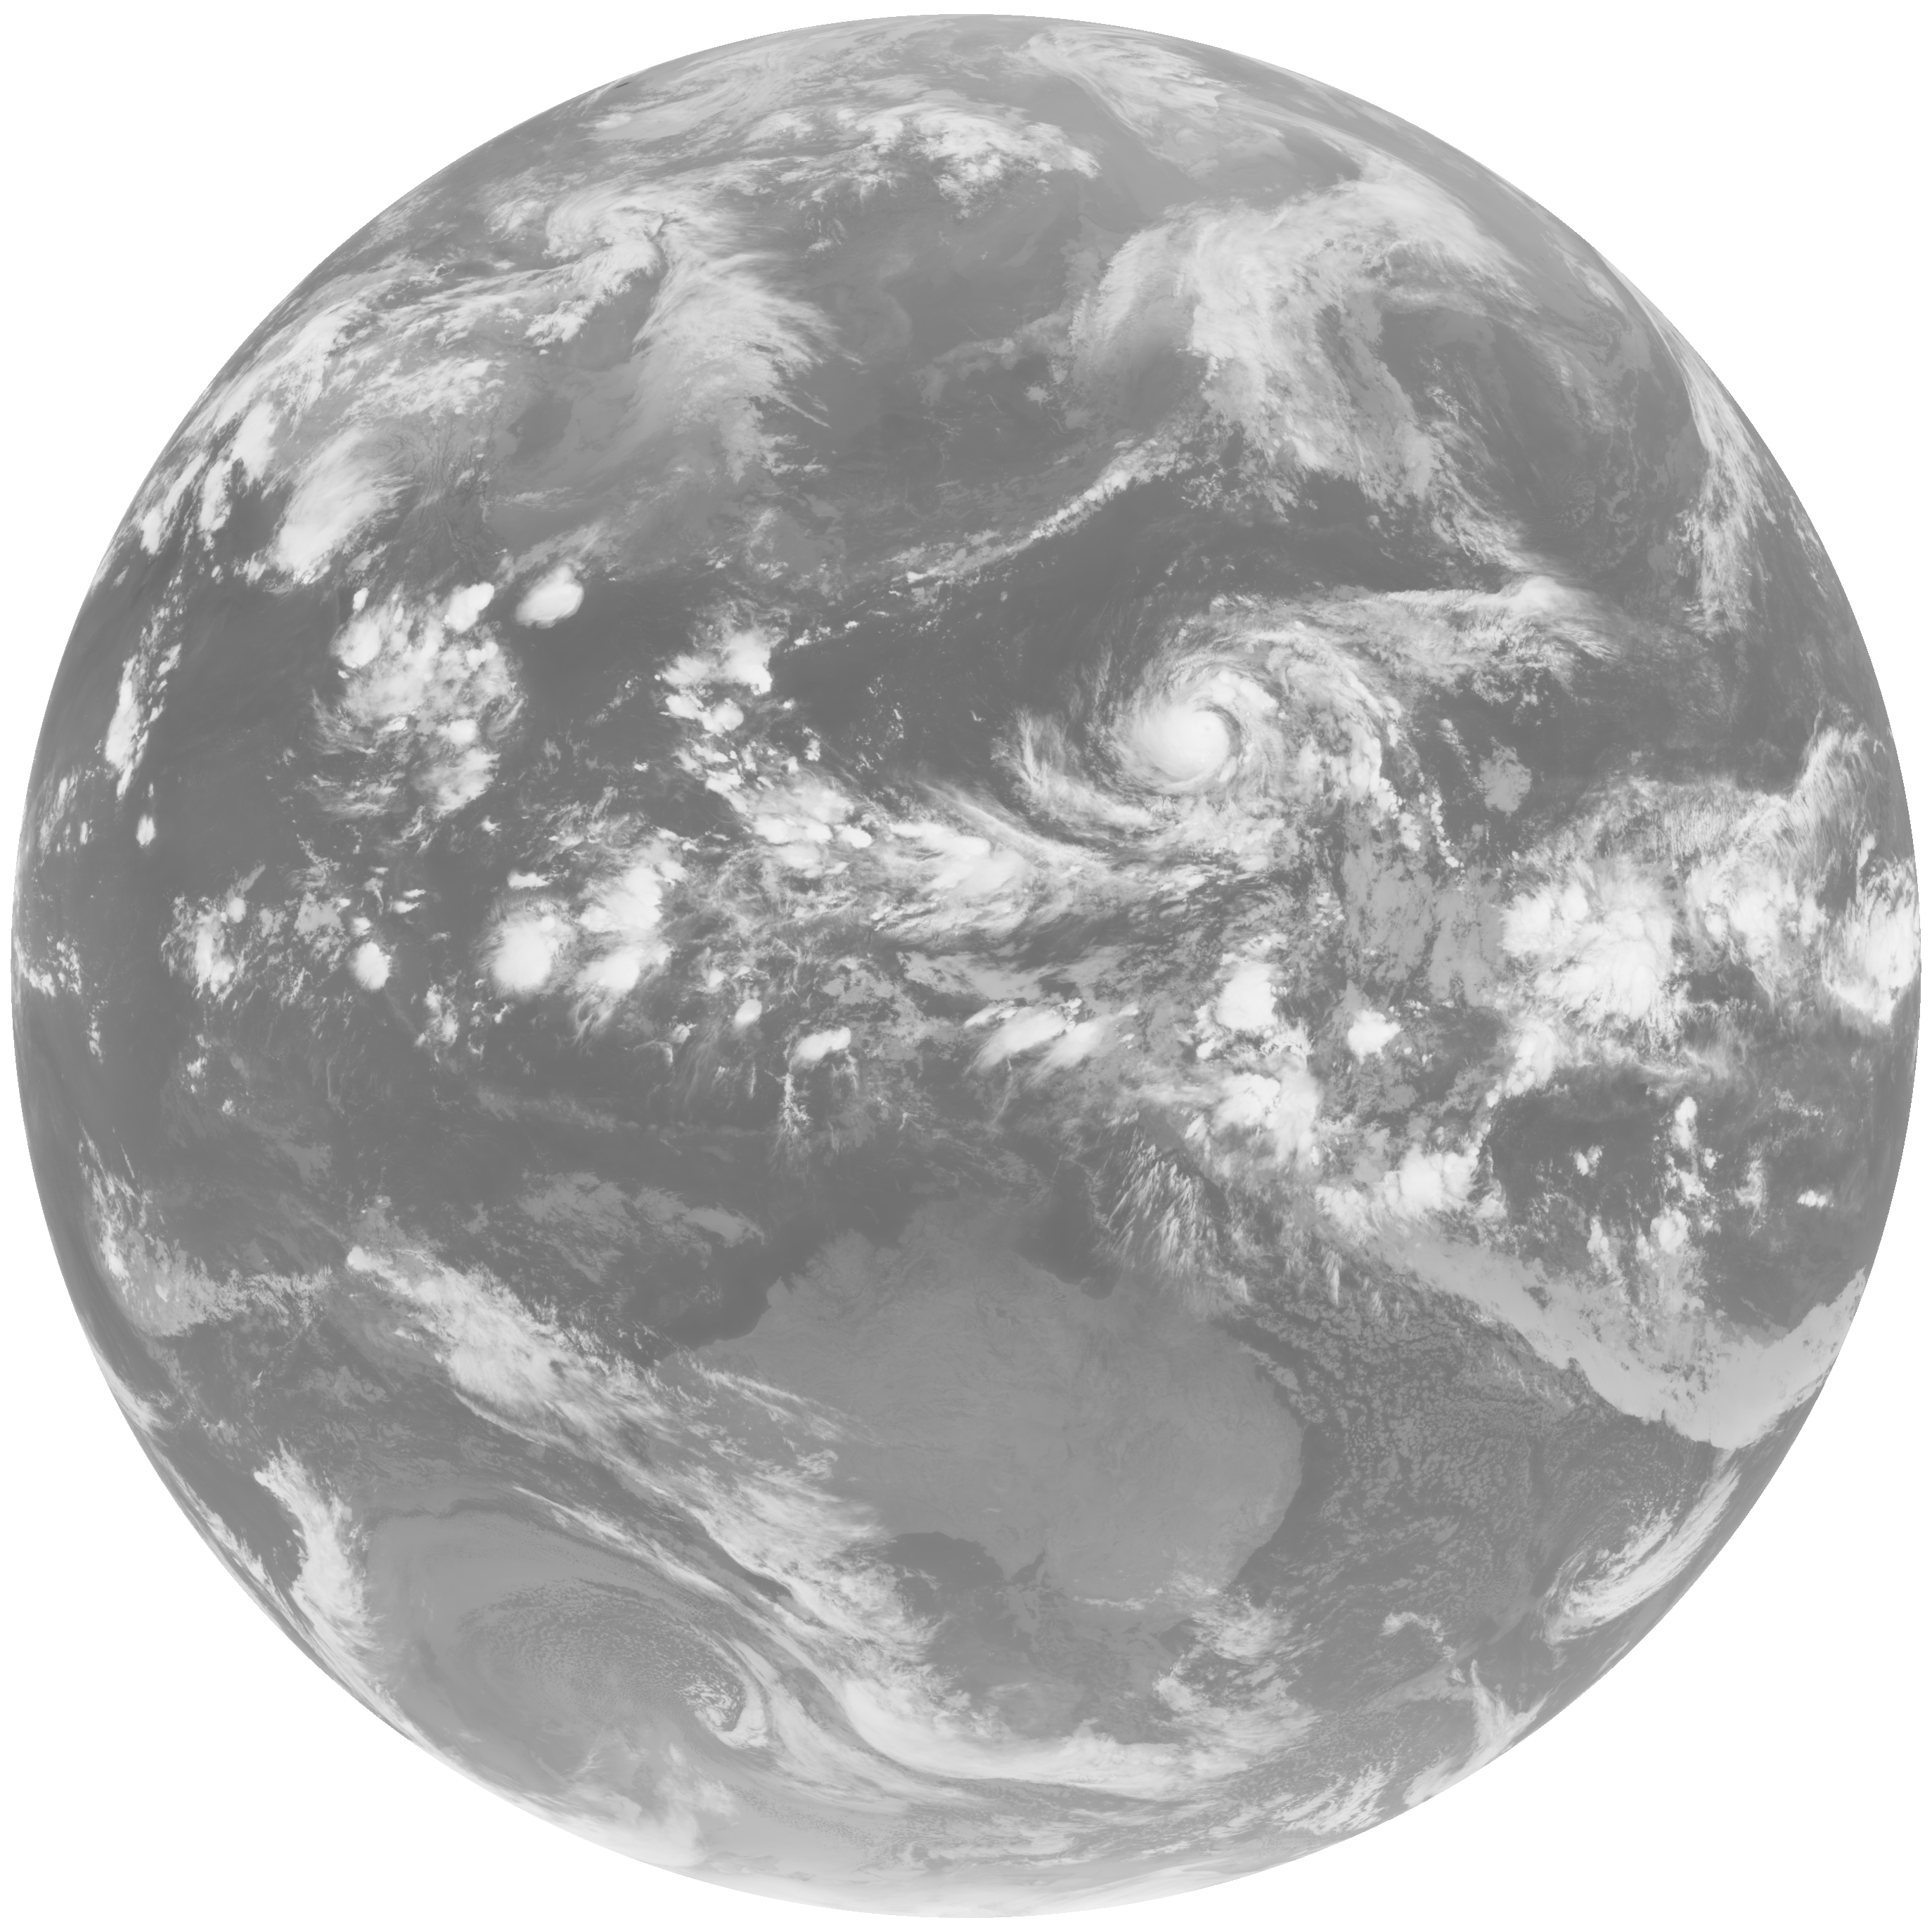typhoon: (961, 556, 1502, 911)
